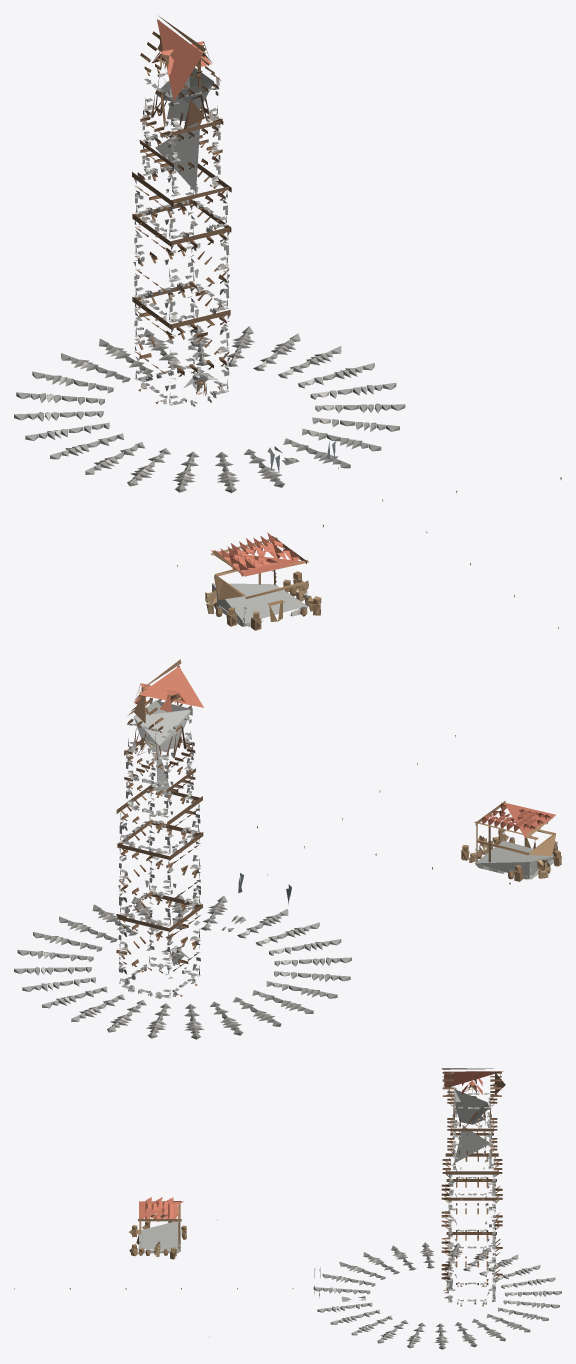
Rendered from chunk_1_2_lod2.glb.
3 views of the same model, one above another, from view 1: azimuth 30°, elevation 25°; view 2: azimuth 150°, elevation 25°; view 3: azimuth 270°, elevation 25° (orthographic). The views are drawn at different scales.
Visible parts, largest first — view 1: Batched_Chunk_1_2.001; view 2: Batched_Chunk_1_2.001; view 3: Batched_Chunk_1_2.001.
Part boxes in pixels (x1=…): Batched_Chunk_1_2.001: x1=14, y1=15, x2=561, y2=630; Batched_Chunk_1_2.001: x1=14, y1=659, x2=561, y2=1039; Batched_Chunk_1_2.001: x1=14, y1=1068, x2=561, y2=1349.
Bounding box in the file's own units: 58.23 × 51.58 × 112.
15 materials, 1 textured.
